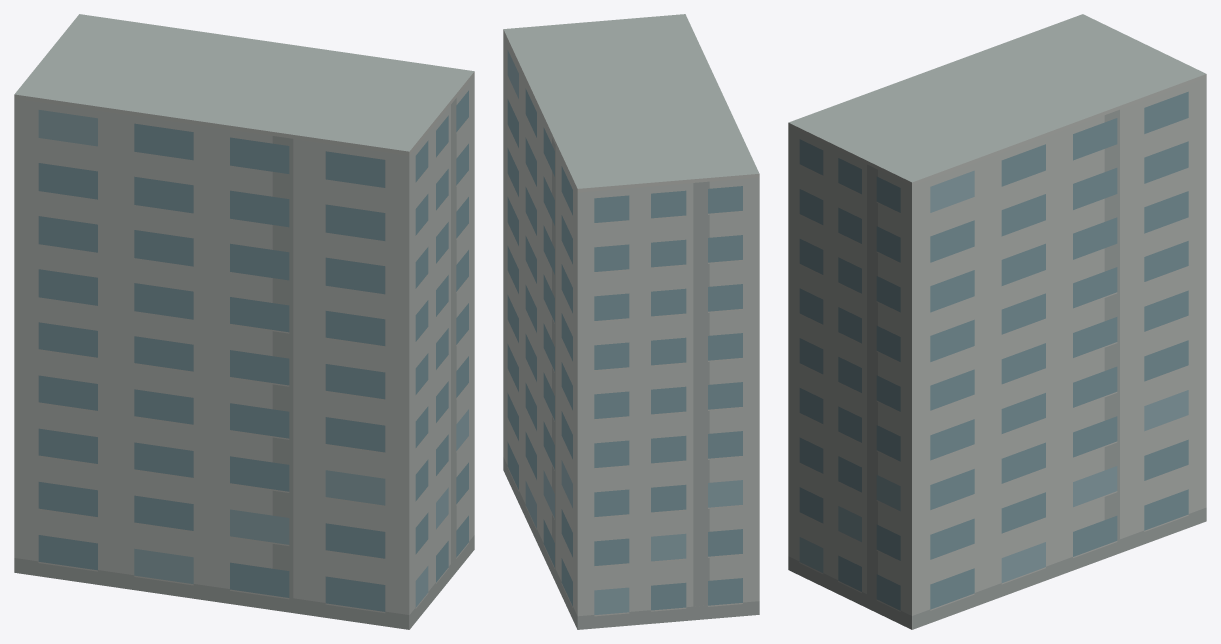
Rendered from residential-4263a082-ae26-48d0-abd0-5413831fdfb0.glb.
3 views of the same model, side by side, from view 1: azimuth 30°, elevation 25°; view 2: azimuth 150°, elevation 25°; view 3: azimuth 270°, elevation 25° (orthographic). The views are drawn at different scales.
Visible parts, largest first — view 1: residential-4263a082-ae26-48d0-abd0-5413831fdfb0.tmp; view 2: residential-4263a082-ae26-48d0-abd0-5413831fdfb0.tmp; view 3: residential-4263a082-ae26-48d0-abd0-5413831fdfb0.tmp.
Boxes of the visible parts, box(x1,y1,x2,y2) form: residential-4263a082-ae26-48d0-abd0-5413831fdfb0.tmp: box(14, 14, 474, 629); residential-4263a082-ae26-48d0-abd0-5413831fdfb0.tmp: box(503, 14, 759, 629); residential-4263a082-ae26-48d0-abd0-5413831fdfb0.tmp: box(788, 14, 1206, 629).
Size of the model in its own units: 23.43 by 29 by 24.58.
